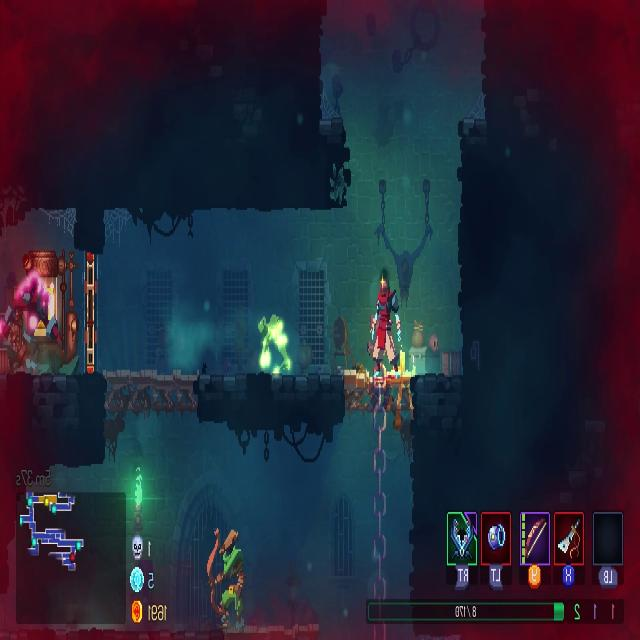agents: (366, 275, 401, 379)
enemy_archer: (206, 524, 247, 629)
enemy_green_puncher: (259, 315, 292, 375)
enemy_purple_big: (1, 270, 66, 375)
